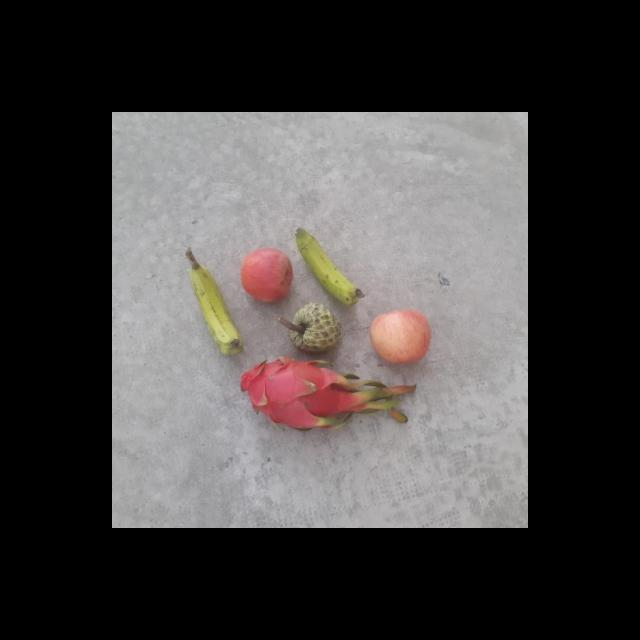Sakya fruit: (289, 301, 342, 354)
apple: (366, 306, 434, 368), (238, 246, 298, 304)
banana: (294, 225, 366, 308), (186, 262, 243, 349)
pitaya: (240, 354, 352, 434)
